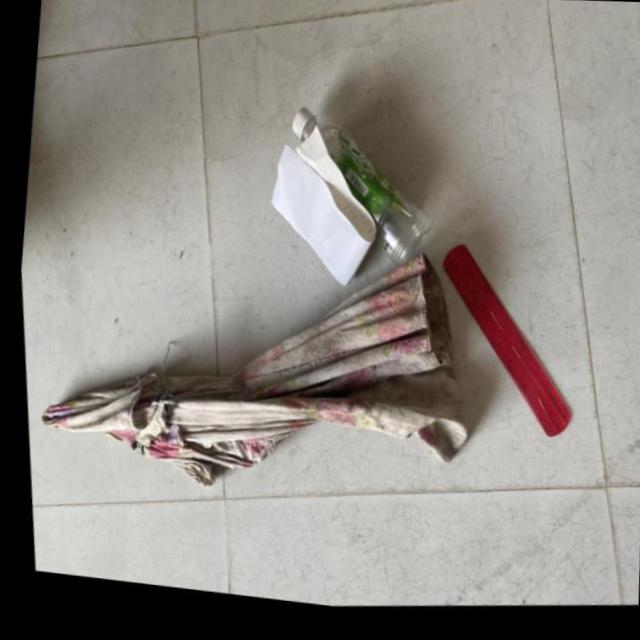food: (248, 115, 381, 318)
leaf: (409, 225, 588, 480), (262, 90, 458, 286)
plastic: (9, 218, 485, 565)
